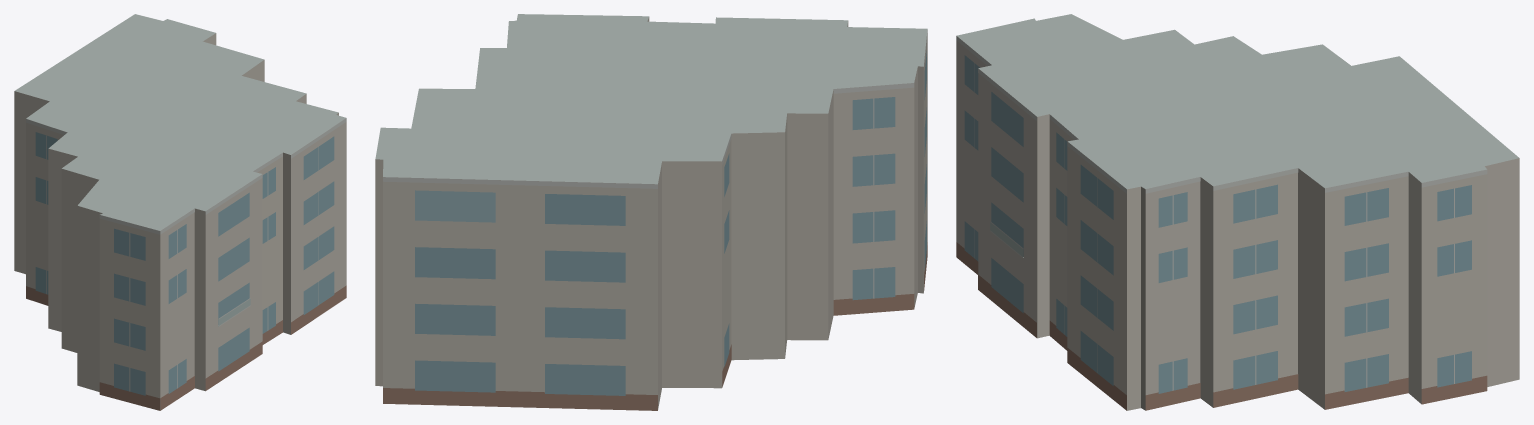
The model's file is survey-upis-32604156.glb.
3 renders of one model, left to right at view 1: azimuth 30°, elevation 25°; view 2: azimuth 150°, elevation 25°; view 3: azimuth 270°, elevation 25°, orthographic. The views are drawn at different scales.
Visible parts, largest first — view 1: survey-upis-32604156.tmp; view 2: survey-upis-32604156.tmp; view 3: survey-upis-32604156.tmp.
Boxes of the visible parts, <box> form: survey-upis-32604156.tmp: <box>14,14,346,410</box>; survey-upis-32604156.tmp: <box>375,14,927,410</box>; survey-upis-32604156.tmp: <box>956,14,1519,410</box>.
Bounding box in the file's own units: 19.87 × 11.7 × 26.97.
